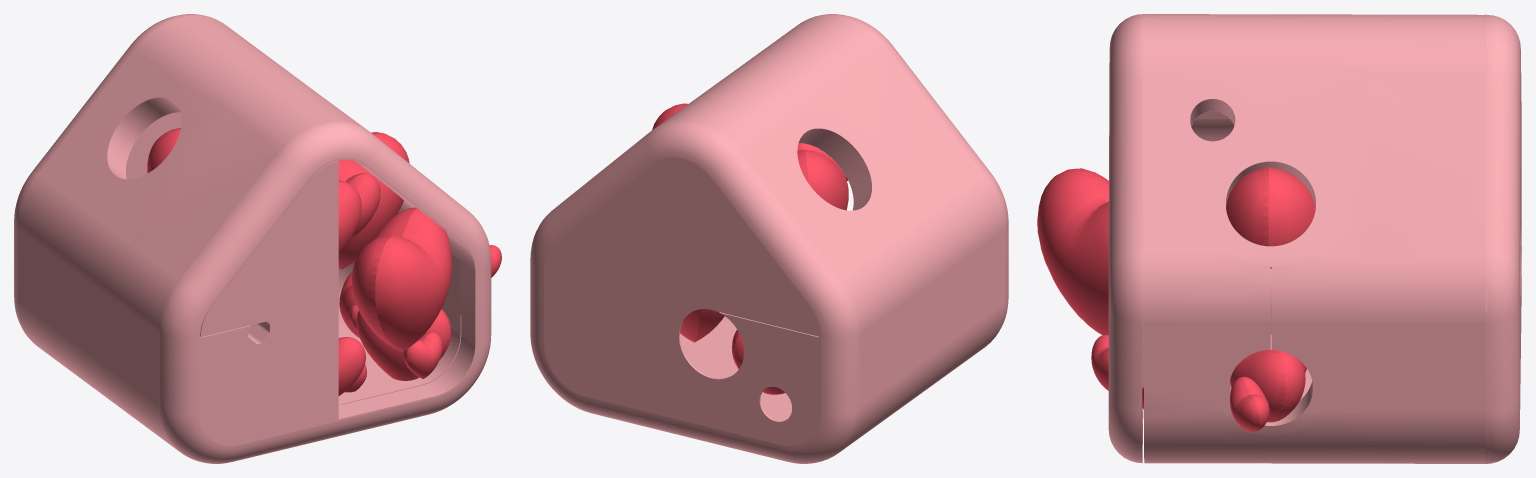
File: Homie_Hearts.glb
3 renders of one model, left to right at view 1: azimuth 30°, elevation 25°; view 2: azimuth 150°, elevation 25°; view 3: azimuth 270°, elevation 25°, orthographic. The views are drawn at different scales.
Parts seen in each view (by area): view 1: connector; view 2: connector; view 3: connector.
Boxes of the visible parts, x1=… form: connector: x1=14, y1=14, x2=501, y2=463; connector: x1=530, y1=14, x2=1008, y2=463; connector: x1=1037, y1=14, x2=1521, y2=463.
Size of the model in its own units: 0.6098 by 0.4718 by 0.5522.
